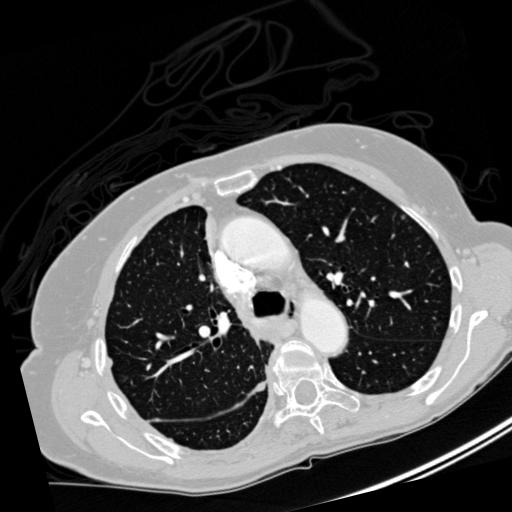nodule: (252, 379, 269, 396)
